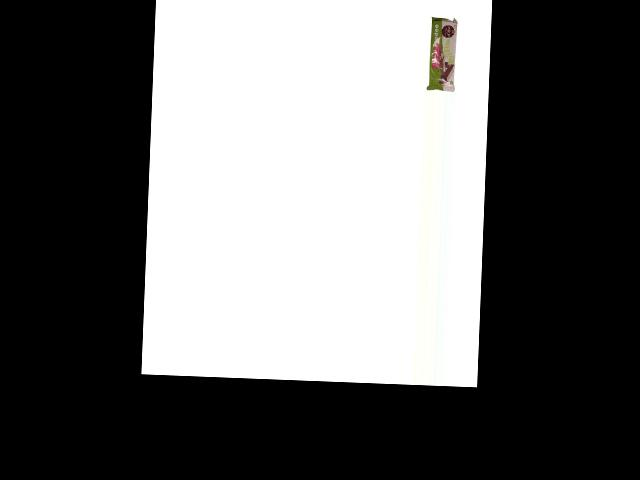chocolate: (427, 14, 460, 91)
